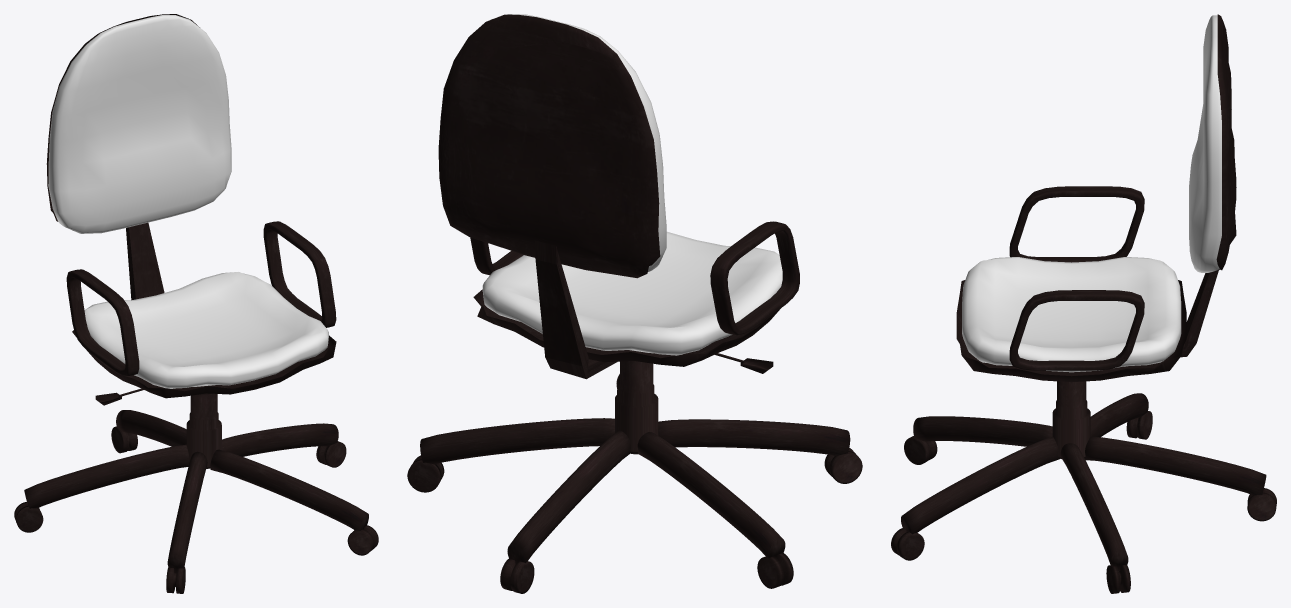
File: Stuhl_Armlehnen.fbx
3 views of the same model, side by side, from view 1: azimuth 30°, elevation 25°; view 2: azimuth 150°, elevation 25°; view 3: azimuth 270°, elevation 25° (orthographic). The views are drawn at different scales.
Visible parts, largest first — view 1: Rückenlehne; view 2: Rückenlehne; view 3: Rückenlehne.
Boxes of the visible parts, x1,y1,x2,y2 form: Rückenlehne: [14, 14, 378, 593]; Rückenlehne: [407, 14, 862, 593]; Rückenlehne: [891, 14, 1276, 593].
Size of the model in its own units: 164 by 220 by 158.
